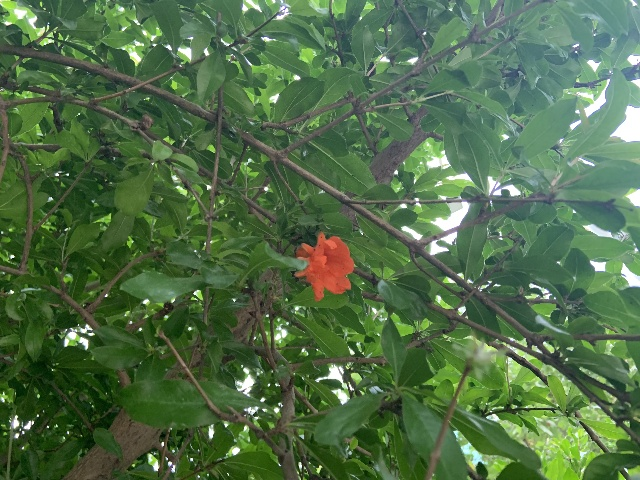flower: (293, 230, 354, 301)
